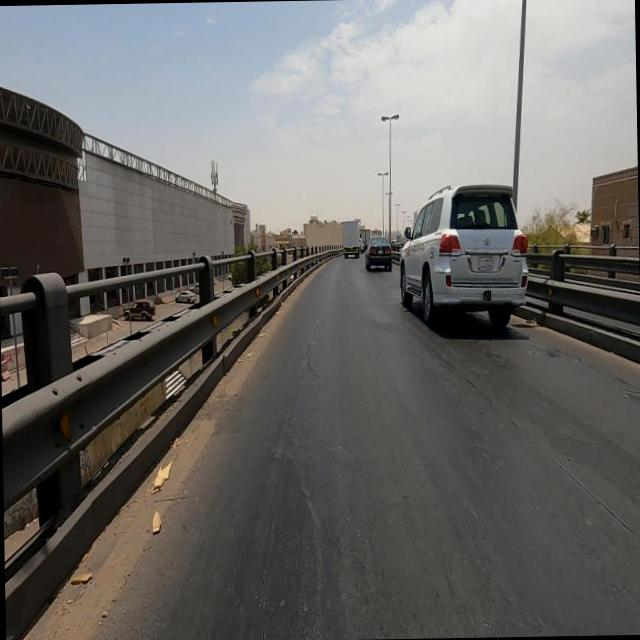debris: (114, 378, 204, 588)
